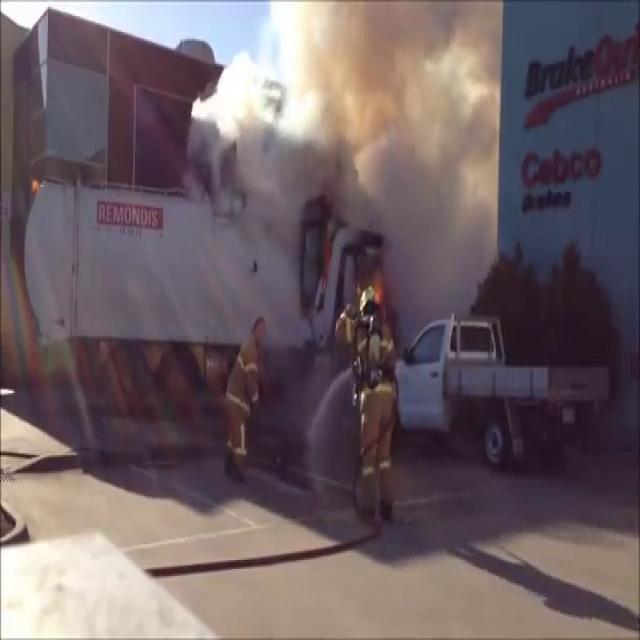Smoke: (193, 2, 500, 318)
